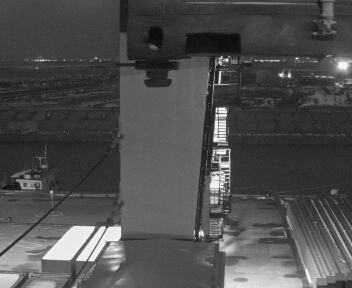twist_lock_1: (127, 50, 184, 96)
